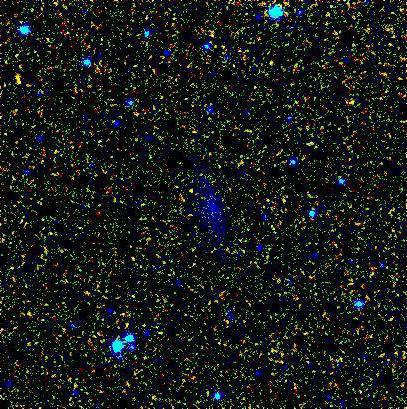star: (178, 176, 208, 206)
